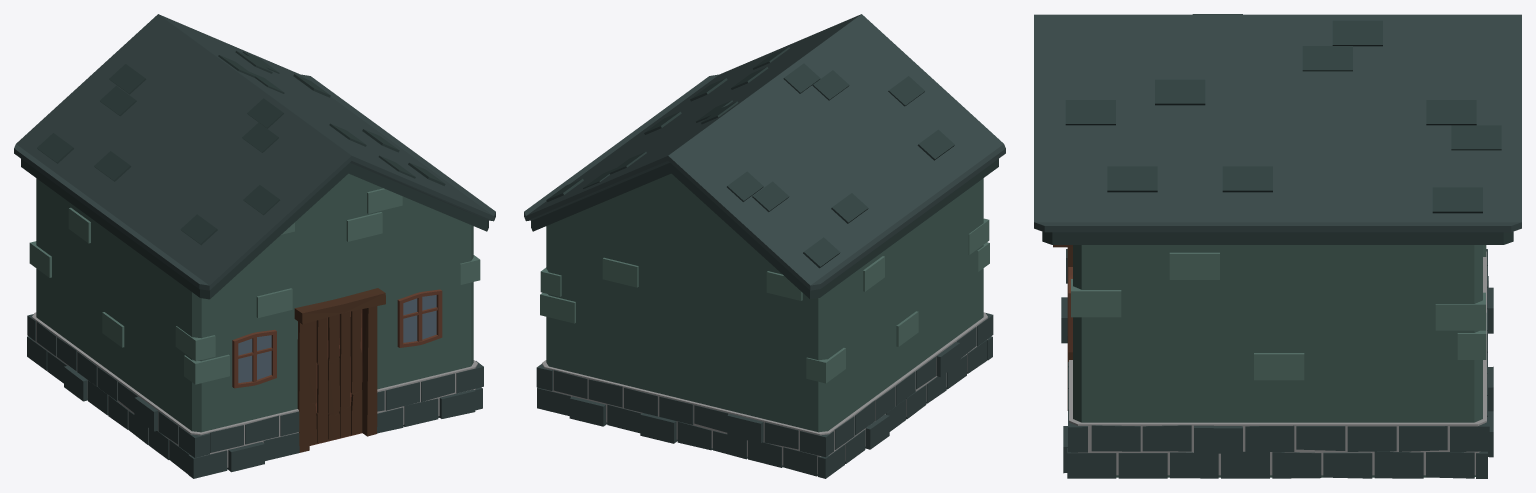
Rendered from 1Story_GableRoof.glb.
3 views of the same model, side by side, from view 1: azimuth 30°, elevation 25°; view 2: azimuth 150°, elevation 25°; view 3: azimuth 270°, elevation 25° (orthographic). The views are drawn at different scales.
Parts seen in each view (by area): view 1: 1Story_GableRoof_Mat; view 2: 1Story_GableRoof_Mat; view 3: 1Story_GableRoof_Mat.
Boxes of the visible parts, <box> form: 1Story_GableRoof_Mat: <box>14,14,495,478</box>; 1Story_GableRoof_Mat: <box>524,14,1005,478</box>; 1Story_GableRoof_Mat: <box>1034,14,1521,478</box>.
Bounding box in the file's own units: 2.11 × 2.02 × 2.38.
